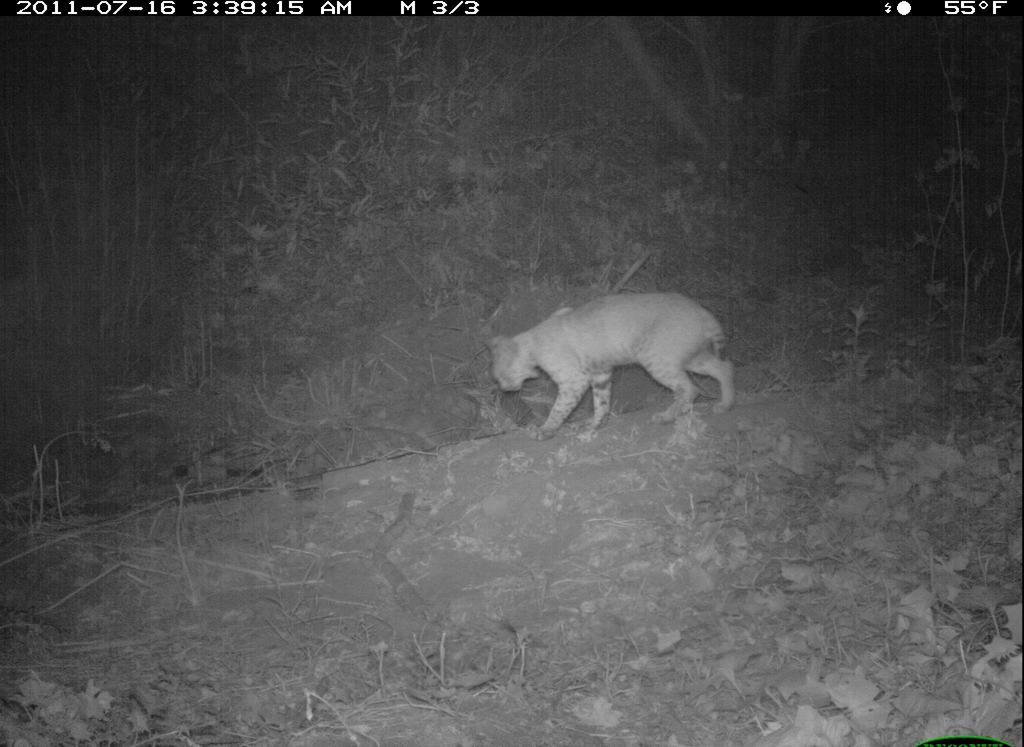bobcat: (483, 282, 752, 450)
